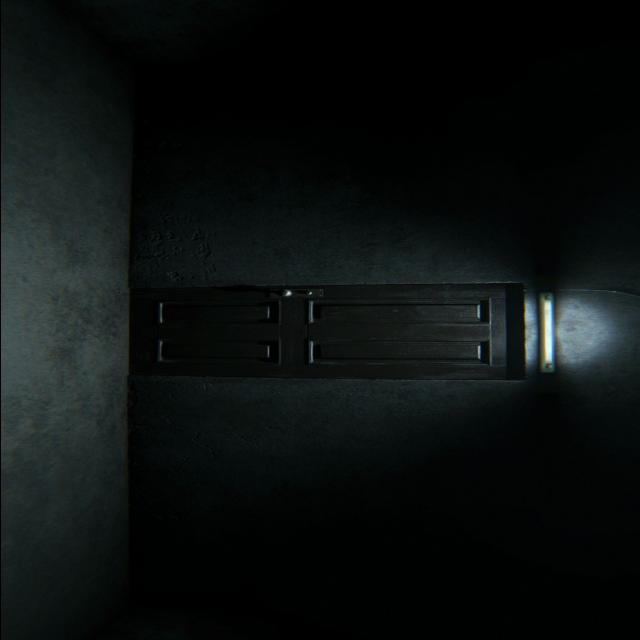close: (136, 286, 514, 378)
